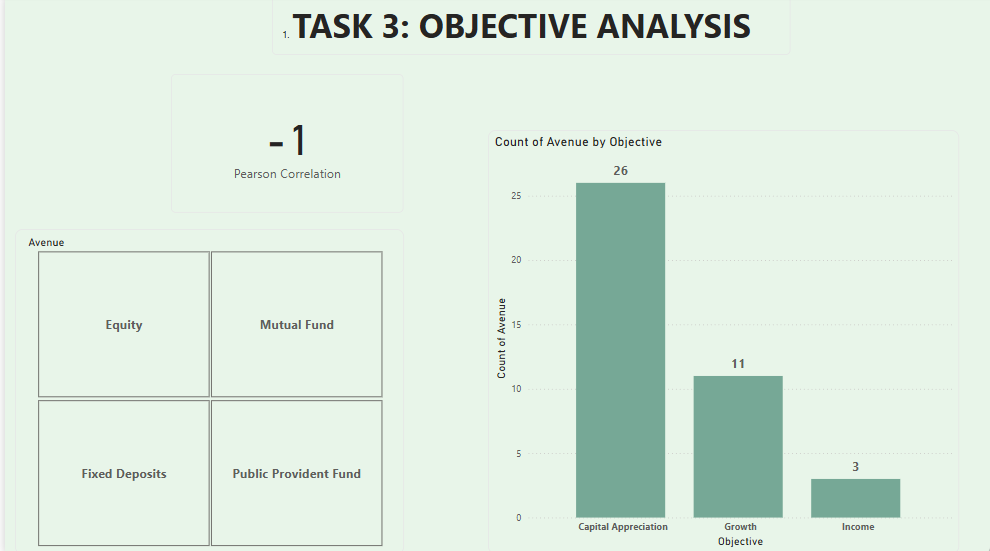

What the dashboard file says about the page in this screenshot:
{"tool":"powerbi","page":{"name":"Task3","canvas":[1280,720],"ordinal":2},"visuals":[{"type":"textbox","box":[343.9,0,669.3,75.6],"z":0},{"type":"card","fields":{"Values":["Data_set 2.Pearson Correlation"]},"box":[214,100.6,300.5,178.6],"z":1000},{"type":"slicer","fields":{"Values":["Data_set 2.Avenue"]},"box":[12.8,301.1,502.3,419.5],"z":2000},{"type":"columnChart","fields":{"Category":["Data_set 2.Objective"],"Y":["CountNonNull(Data_set 2.Avenue)"]},"box":[623.6,172.9,608,547.1],"z":3000}]}

Visuals, with their boxes in screenshot pixels (x1, y1, x2, y2), scaled from the page's 1280x720 canvas onto the 990x551 screenshot:
textbox: l=266, t=0, r=784, b=58
card - Data_set 2.Pearson Correlation: l=166, t=77, r=398, b=214
slicer - Data_set 2.Avenue: l=10, t=230, r=398, b=550
columnChart - Data_set 2.Objective x CountNonNull(Data_set 2.Avenue): l=482, t=132, r=953, b=550
